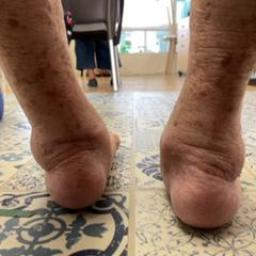Back View -Both Feet-: (3, 58, 252, 240)
